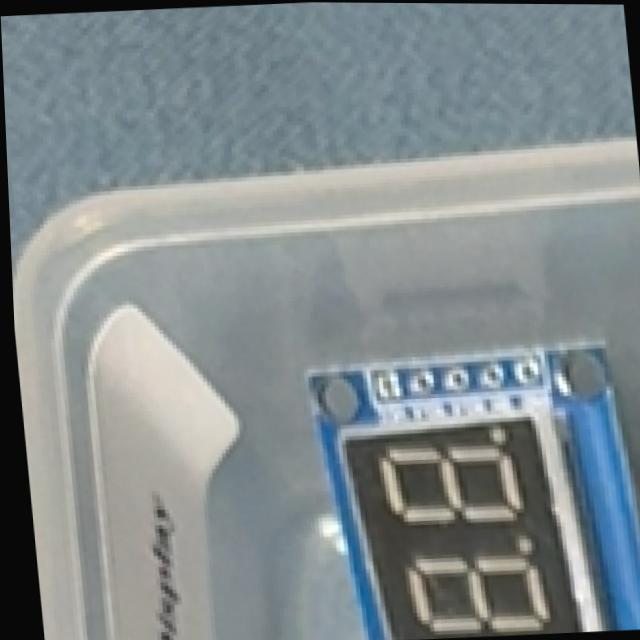Digit Display: (301, 302, 640, 640)
